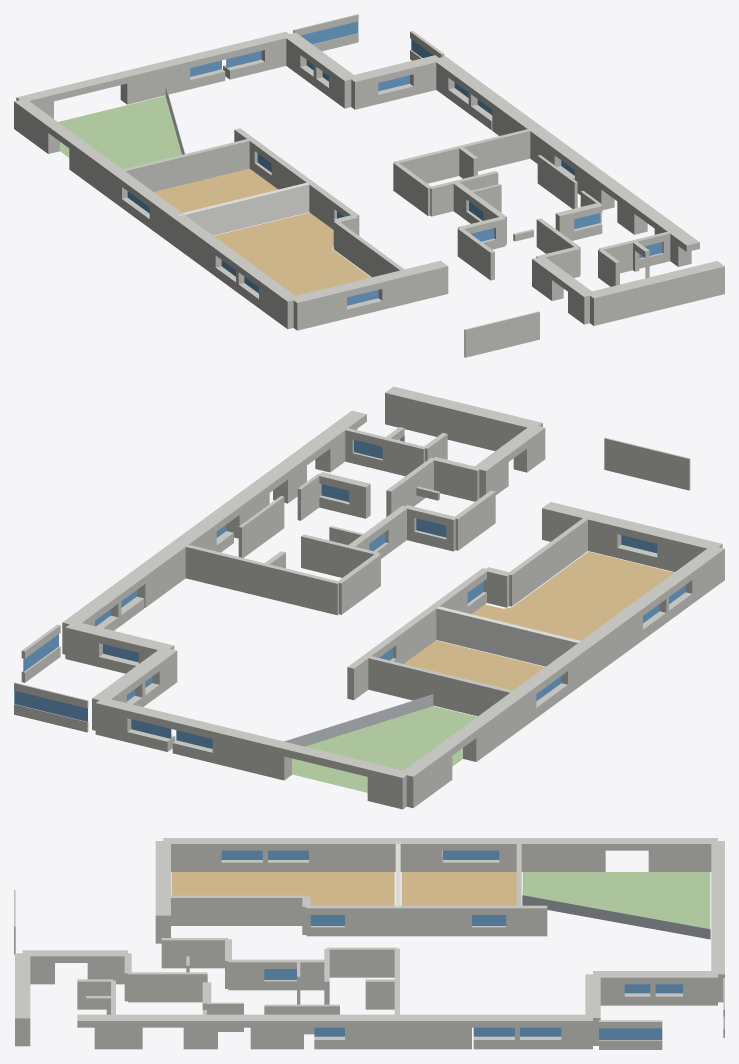
Rendered from Screenshot 2026-10-06 152800_3d.obj.
3 views of the same model, one above another, from view 1: azimuth 30°, elevation 25°; view 2: azimuth 150°, elevation 25°; view 3: azimuth 270°, elevation 25° (orthographic). The views are drawn at different scales.
Parts seen in each view (by area): view 1: floor_R3_living_144, floor_R1_balcony_142, wall_W20_46, wall_W4_18, wall_W5_19, floor_R2_living_143, wall_W2_5, wall_W21_47, wall_W15_34, wall_W24_56, wall_W25_65, wall_W7_21 (+32 smaller); view 2: floor_R3_living_144, floor_R1_balcony_142, wall_W20_46, wall_W5_19, wall_W4_18, floor_R2_living_143, wall_W2_5, wall_W25_65, wall_W21_47, wall_W7_21, wall_W6_20, wall_W22_50 (+38 smaller); view 3: floor_R1_balcony_142, floor_R3_living_144, wall_W25_65, floor_R2_living_143, wall_W24_56, wall_W22_50, wall_W41_107, wall_W34_84, wall_W27_70, wall_W22_48, wall_W30_76, railing_R1_141 (+66 smaller).
Boxes of the visible parts, x1,y1,x2,y2 form: floor_R3_living_144: (214,212,370,295); floor_R1_balcony_142: (58,96,181,169); wall_W20_46: (586,261,724,325); wall_W4_18: (117,138,251,191); wall_W5_19: (178,182,310,235); floor_R2_living_143: (154,168,277,212); wall_W2_5: (120,56,190,104); wall_W21_47: (464,311,539,357); wall_W15_34: (291,285,346,330); wall_W24_56: (171,214,226,276); wall_W25_65: (333,221,405,277); wall_W7_21: (459,128,535,171); floor_R3_living_144: (472,551,674,640); floor_R1_balcony_142: (292,706,476,792); wall_W20_46: (385,386,542,451); wall_W5_19: (436,606,585,666); wall_W4_18: (367,655,519,716); floor_R2_living_143: (404,640,544,690); wall_W2_5: (212,726,291,780); wall_W25_65: (509,515,591,606); wall_W21_47: (604,437,690,490); wall_W7_21: (178,543,264,597); wall_W6_20: (264,564,339,615); wall_W22_50: (463,693,524,761); floor_R1_balcony_142: (522,872,710,928); floor_R3_living_144: (171,872,394,905); wall_W25_65: (163,895,306,925); floor_R2_living_143: (401,872,516,905); wall_W24_56: (309,838,398,871); wall_W22_50: (519,838,605,871); wall_W41_107: (397,1014,471,1049); wall_W34_84: (128,972,207,1002); wall_W27_70: (398,905,471,936); wall_W22_48: (648,838,717,871); wall_W30_76: (327,947,397,977); railing_R1_141: (522,895,710,939).
Size of the model in its own units: 38.63 by 2.75 by 63.17.
